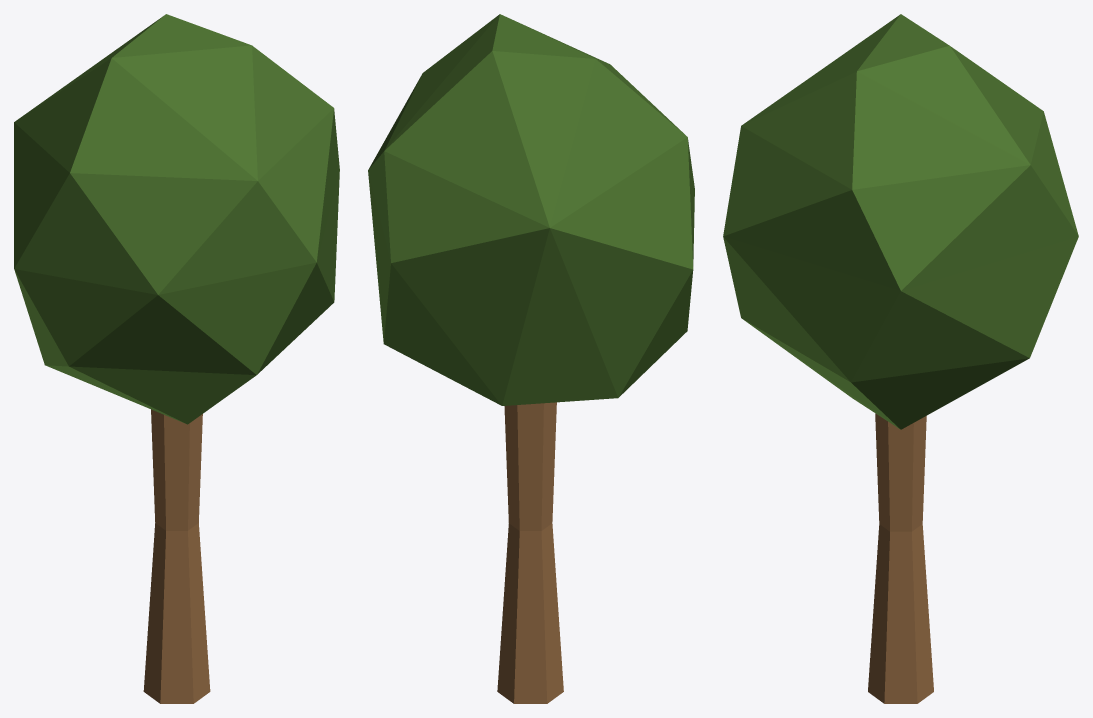
File: tree_001.fbx
3 views of the same model, side by side, from view 1: azimuth 30°, elevation 25°; view 2: azimuth 150°, elevation 25°; view 3: azimuth 270°, elevation 25° (orthographic).
Parts seen in each view (by area): view 1: Cylinder; view 2: Cylinder; view 3: Cylinder.
Part boxes in pixels (x1,y1,x2,y2): Cylinder: (14,14,339,703); Cylinder: (368,14,694,703); Cylinder: (723,14,1078,703).
Bounding box in the file's own units: 2.09 × 4.02 × 1.99.
